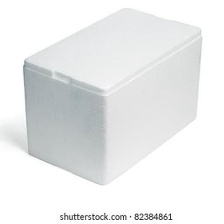foam_box: (18, 3, 208, 188)
